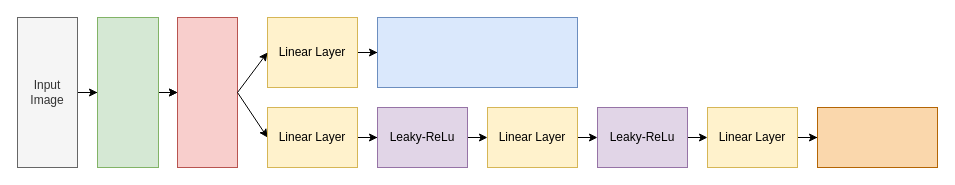
The diagram is 955 pixels wide and 185 high, and some of its shapes have lost their labels. The shapes that lost their labels are listed below. From the top down, each one's centre as x and y in pixels, then its label:
At pixel 477 52: "Facial Landmark Location Predictions".
At pixel 127 92: "ResNet -18".
At pixel 207 92: "Features (Avg Pool Layer)".
At pixel 877 137: "Sensitive Attribute Predictions".
